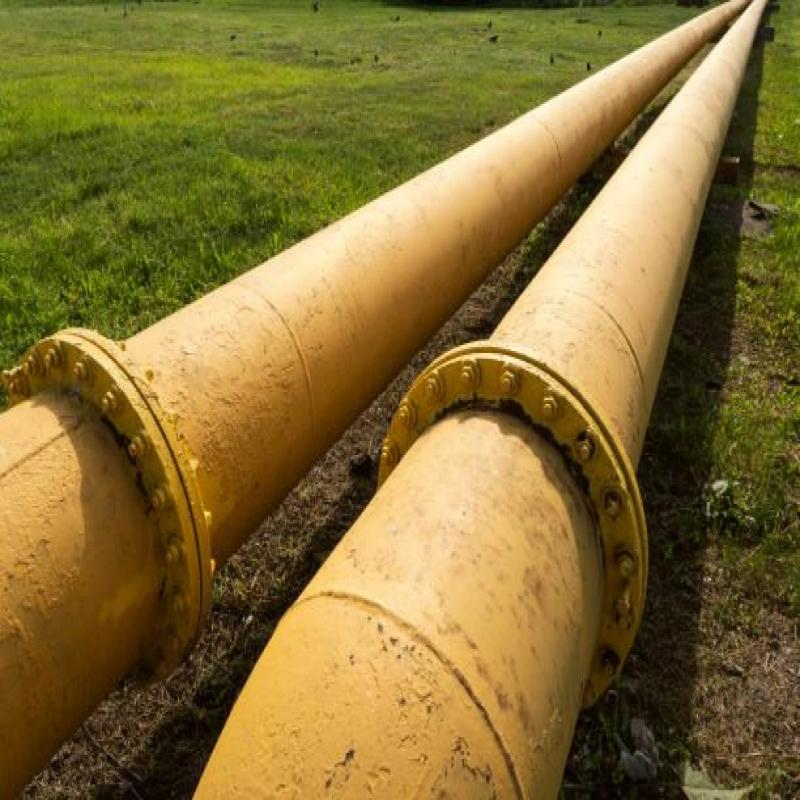Healthy: (0, 0, 761, 799)
